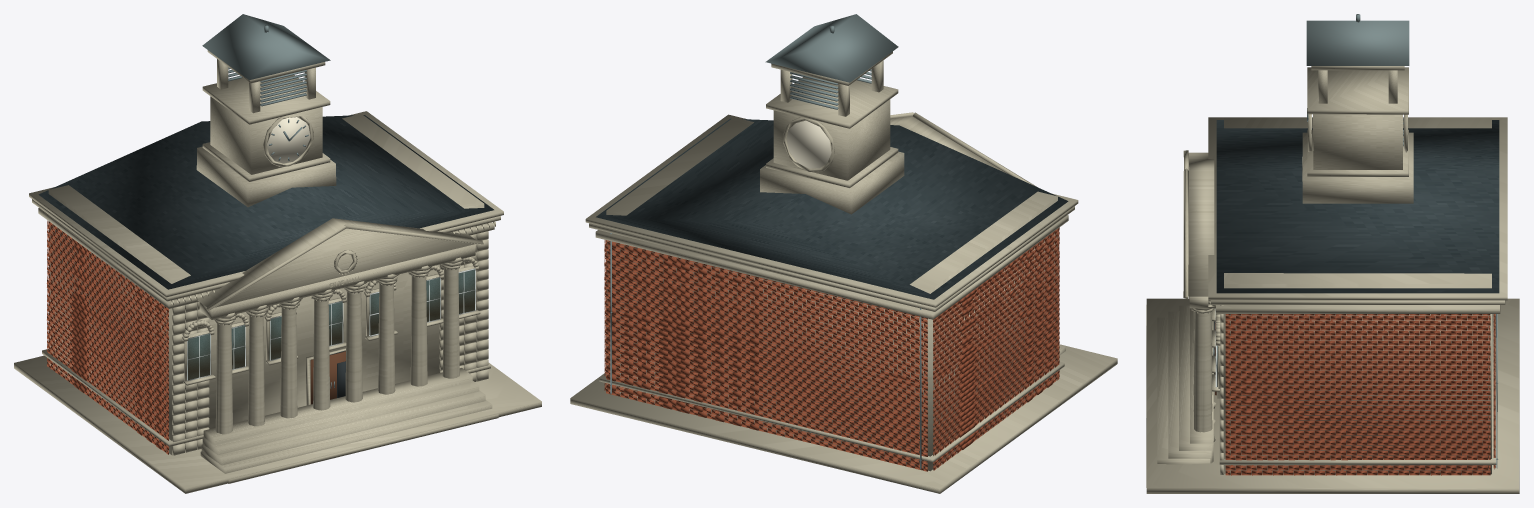
The picture shows the model from 3 angles, left to right: view 1: azimuth 30°, elevation 25°; view 2: azimuth 150°, elevation 25°; view 3: azimuth 270°, elevation 25°; orthographic projection. The views are drawn at different scales.
Visible parts, largest first — view 1: town_hall__static_limestone, town_hall__static_slate, town_hall__static_warm_brick, town_hall__static_patinated_metal, town_hall__static_warm_glazing, town_hall__static_clock_ivory, town_hall__static_civic_pale_painted_trim, town_hall__door_01__recessed_entrance_leaf; view 2: town_hall__static_warm_brick, town_hall__static_limestone, town_hall__static_slate, town_hall__static_patinated_metal, town_hall__static_clock_ivory; view 3: town_hall__static_limestone, town_hall__static_warm_brick, town_hall__static_slate, town_hall__static_patinated_metal.
Part boxes in pixels (x1,y1,x2,y2): town_hall__static_limestone: [14, 50, 541, 493]; town_hall__static_slate: [38, 115, 493, 289]; town_hall__static_warm_brick: [46, 220, 168, 454]; town_hall__static_patinated_metal: [202, 14, 330, 160]; town_hall__static_warm_glazing: [187, 269, 474, 380]; town_hall__static_clock_ivory: [267, 117, 310, 163]; town_hall__static_civic_pale_painted_trim: [187, 268, 475, 380]; town_hall__door_01__recessed_entrance_leaf: [310, 351, 345, 404]; town_hall__static_warm_brick: [604, 227, 1059, 471]; town_hall__static_limestone: [570, 51, 1117, 493]; town_hall__static_slate: [596, 118, 1068, 299]; town_hall__static_patinated_metal: [610, 14, 921, 469]; town_hall__static_clock_ivory: [786, 120, 831, 168]; town_hall__static_limestone: [1146, 66, 1519, 493]; town_hall__static_warm_brick: [1225, 314, 1495, 475]; town_hall__static_slate: [1216, 120, 1499, 293]; town_hall__static_patinated_metal: [1306, 14, 1497, 468].
Bounding box in the file's own units: 17.91 × 16.98 × 14.91.
Materials: 9 (4 with a texture image).
